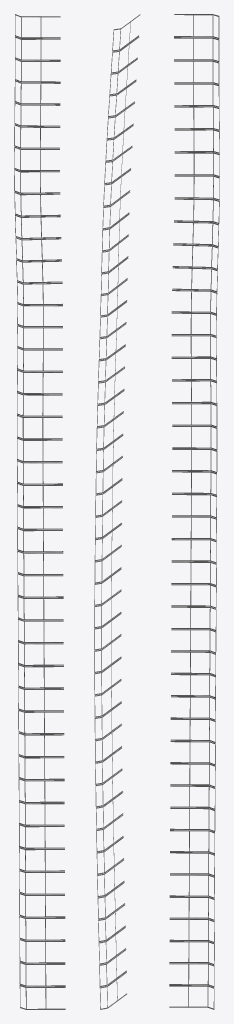
Rendered from _1WALL_03_EMIRATES_001_SUB0.obj.
3 views of the same model, side by side, from view 1: azimuth 90°, elevation 25°; view 2: azimuth 150°, elevation 25°; view 3: azimuth 270°, elevation 25° (orthographic).
Parts seen in each view (by area): view 1: _1WALL_03_EMIRATES_001_SUB0_Scene.260; view 2: _1WALL_03_EMIRATES_001_SUB0_Scene.260; view 3: _1WALL_03_EMIRATES_001_SUB0_Scene.260.
Part boxes in pixels (x1,y1,x2,y2): _1WALL_03_EMIRATES_001_SUB0_Scene.260: [14, 14, 65, 1009]; _1WALL_03_EMIRATES_001_SUB0_Scene.260: [94, 14, 140, 1009]; _1WALL_03_EMIRATES_001_SUB0_Scene.260: [169, 14, 219, 1009].
Size of the model in its own units: 243 by 8807 by 409.
